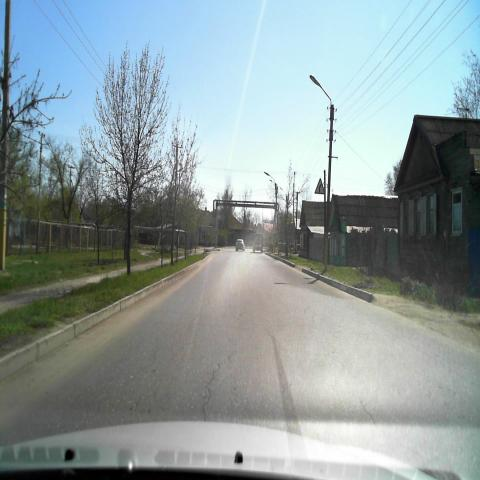1_11: (314, 178, 326, 196)
